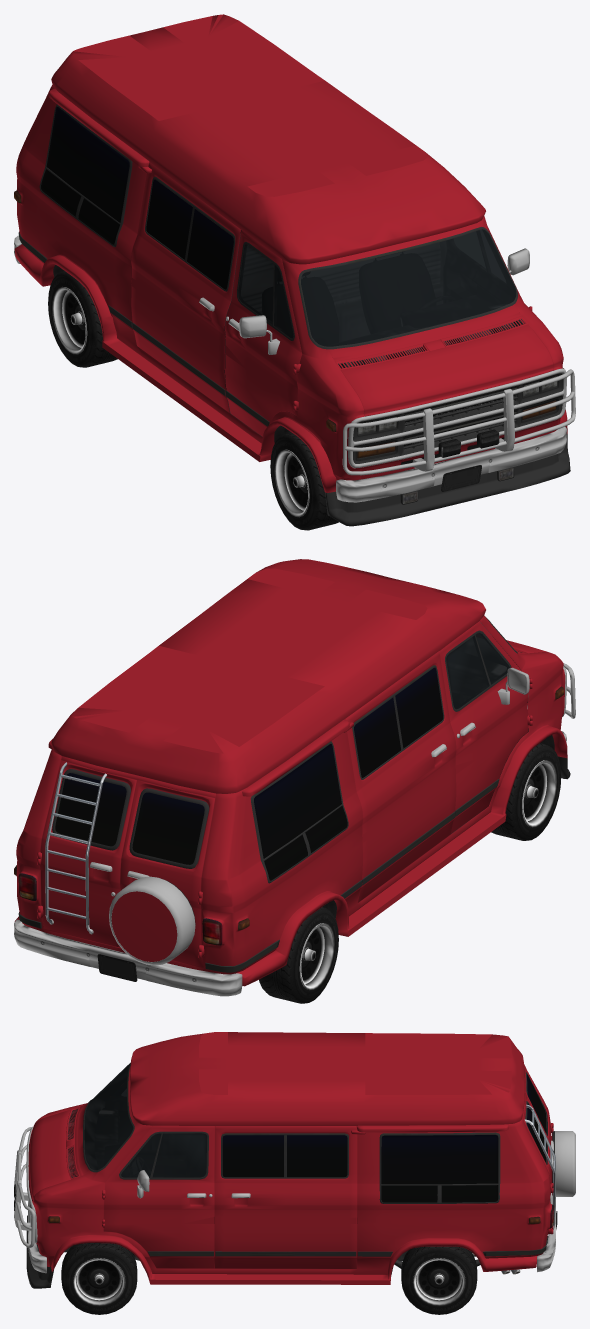
The model's file is veicolo_epoca_minivan.glb.
3 views of the same model, one above another, from view 1: azimuth 30°, elevation 25°; view 2: azimuth 150°, elevation 25°; view 3: azimuth 270°, elevation 25° (orthographic). The views are drawn at different scales.
Parts seen in each view (by area): view 1: sb_modello; view 2: sb_modello; view 3: sb_modello.
Part boxes in pixels (x1=…): sb_modello: x1=14, y1=14, x2=575, y2=530; sb_modello: x1=14, y1=559, x2=575, y2=1003; sb_modello: x1=14, y1=1032, x2=575, y2=1314.
Bounding box in the file's own units: 2.35 × 2.11 × 5.18.
6 materials, 5 textured.
